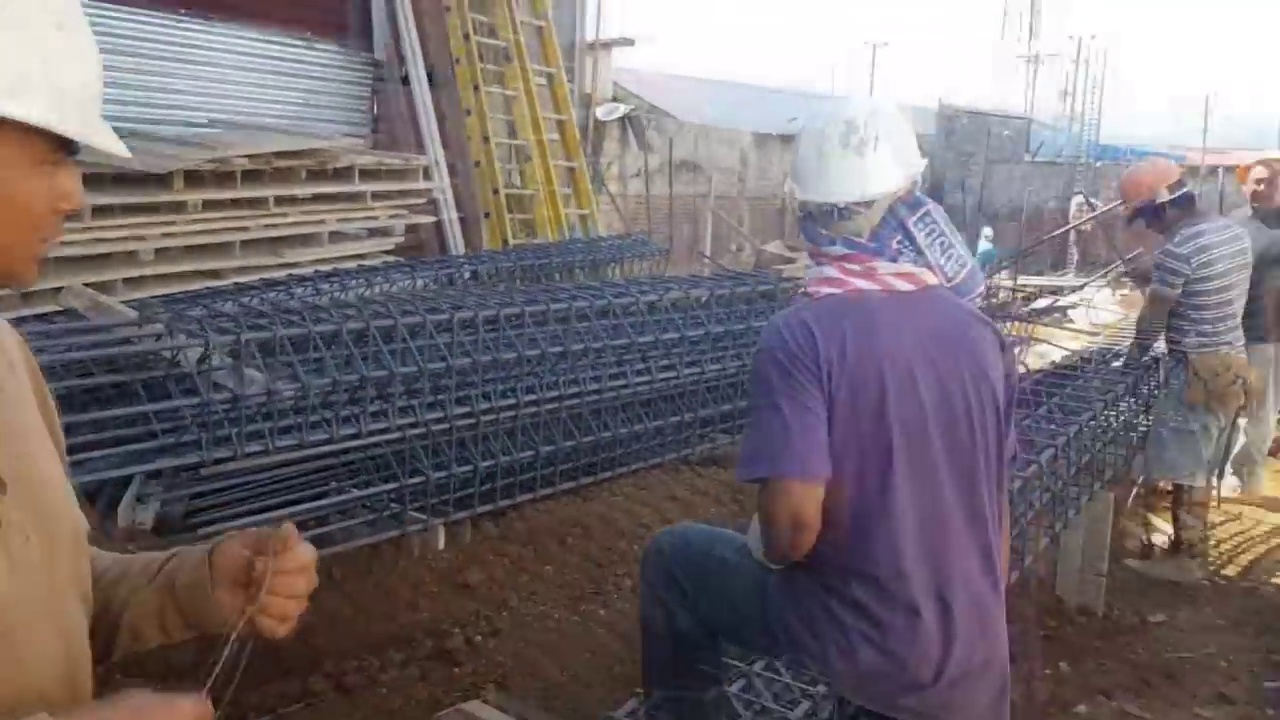helmet: (0, 4, 135, 162), (786, 80, 936, 201), (1120, 155, 1189, 214), (981, 226, 994, 237)
helmet-off: (1237, 160, 1280, 219), (1072, 186, 1086, 196)
helmet-on: (2, 21, 130, 323), (782, 80, 936, 264), (1119, 155, 1208, 238), (978, 226, 996, 242)
person: (633, 77, 1020, 716), (0, 1, 322, 718), (1116, 156, 1263, 589), (1228, 160, 1280, 504), (1068, 186, 1104, 273), (975, 225, 997, 279)
